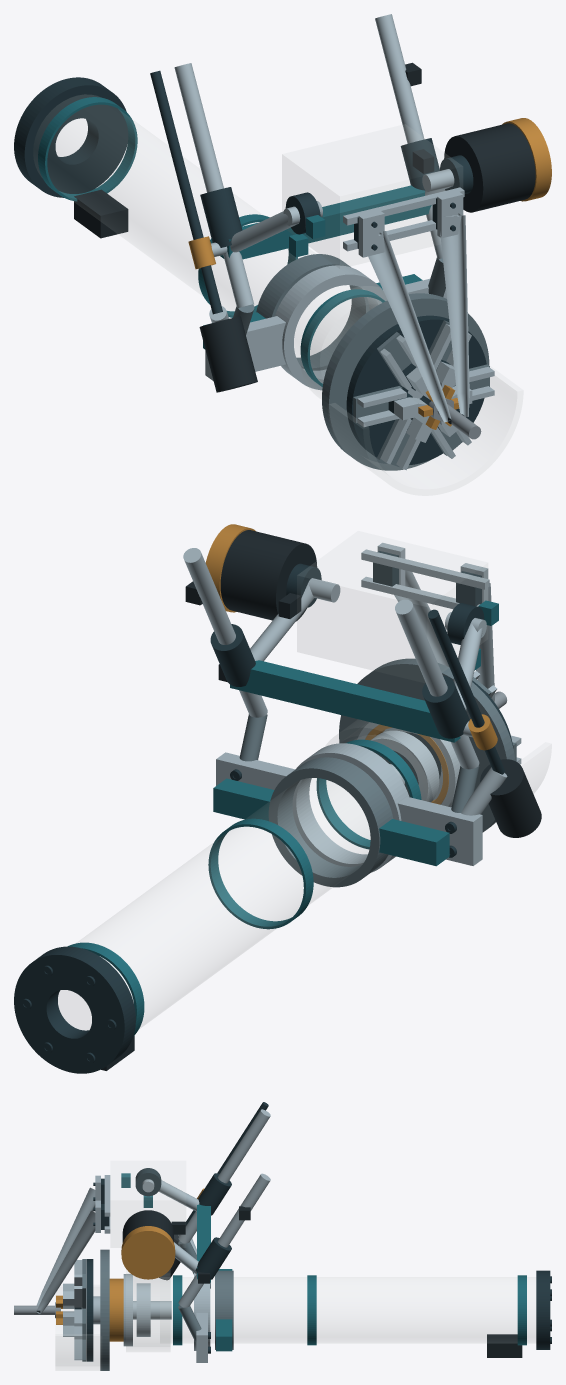
The model's file is b-assembly-review.glb.
The picture shows the model from 3 angles, top to bottom: view 1: azimuth 30°, elevation 25°; view 2: azimuth 150°, elevation 25°; view 3: azimuth 270°, elevation 25°; orthographic projection. The views are drawn at different scales.
Parts seen in each view (by area): view 1: 01-SPINDLE-INSTALLATION-ENVELOPE, 05-GRIPPER-INSTALLATION-ENVELOPE-NOT-SELECTED, robot-adapter-bore, 02-FRONT-HALF-GUARD-REAR-OPEN, 07-10mm-guide-shaft (×2), chuck-rear-mounting-ring, 08B-geared-rotary-actuator-envelope, rotor-back-flange, spindle-clamp-band (×3), slide-support-collar, 09-STATIONARY-CLAMP-ACTUATOR-ENVELOPE, 06-SHARP-TAPERED-FINGER-1 (+17 smaller); view 2: 01-SPINDLE-INSTALLATION-ENVELOPE, 05-GRIPPER-INSTALLATION-ENVELOPE-NOT-SELECTED, robot-adapter-bore, moving-crossmember, reaction-collar, spindle-clamp-band (×3), 08B-geared-rotary-actuator-envelope, 07-10mm-guide-shaft (×2), slide-support-collar, slide-mounting-ear (×2), 10-REACTION-TAB (×2), chuck-rear-mounting-ring (+16 smaller); view 3: 01-SPINDLE-INSTALLATION-ENVELOPE, 05-GRIPPER-INSTALLATION-ENVELOPE-NOT-SELECTED, 09-STATIONARY-CLAMP-ACTUATOR-ENVELOPE, 07-10mm-guide-shaft (×2), 08B-brake-envelope, spindle-clamp-band (×3), 02-FRONT-HALF-GUARD-REAR-OPEN, 07-linear-bushing-carriage (×2), 06-SHARP-TAPERED-FINGER-1, chuck-rear-mounting-ring, robot-adapter-bore, reaction-collar (+17 smaller).
Boxes of the visible parts, x1=… form: 01-SPINDLE-INSTALLATION-ENVELOPE: x1=34, y1=95, x2=355, y2=364; 05-GRIPPER-INSTALLATION-ENVELOPE-NOT-SELECTED: x1=282, y1=125, x2=462, y2=268; robot-adapter-bore: x1=14, y1=77, x2=128, y2=197; 02-FRONT-HALF-GUARD-REAR-OPEN: x1=328, y1=366, x2=522, y2=495; 07-10mm-guide-shaft (×2): x1=174, y1=14, x2=442, y2=307; chuck-rear-mounting-ring: x1=322, y1=293, x2=489, y2=470; 08B-geared-rotary-actuator-envelope: x1=444, y1=123, x2=535, y2=212; rotor-back-flange: x1=346, y1=315, x2=486, y2=464; spindle-clamp-band (×3): x1=38, y1=97, x2=385, y2=386; slide-support-collar: x1=275, y1=265, x2=387, y2=390; 09-STATIONARY-CLAMP-ACTUATOR-ENVELOPE: x1=301, y1=286, x2=386, y2=398; 06-SHARP-TAPERED-FINGER-1: x1=440, y1=215, x2=469, y2=416; 01-SPINDLE-INSTALLATION-ENVELOPE: x1=58, y1=736, x2=425, y2=1029; 05-GRIPPER-INSTALLATION-ENVELOPE-NOT-SELECTED: x1=297, y1=531, x2=487, y2=682; robot-adapter-bore: x1=14, y1=946, x2=135, y2=1073; moving-crossmember: x1=230, y1=660, x2=460, y2=742; reaction-collar: x1=268, y1=757, x2=393, y2=887; spindle-clamp-band (×3): x1=67, y1=739, x2=421, y2=1036; 08B-geared-rotary-actuator-envelope: x1=220, y1=530, x2=317, y2=621; 07-10mm-guide-shaft (×2): x1=183, y1=548, x2=479, y2=769; slide-support-collar: x1=292, y1=743, x2=409, y2=872; slide-mounting-ear (×2): x1=216, y1=752, x2=482, y2=865; 10-REACTION-TAB (×2): x1=213, y1=778, x2=449, y2=866; chuck-rear-mounting-ring: x1=339, y1=658, x2=515, y2=832; 01-SPINDLE-INSTALLATION-ENVELOPE: x1=171, y1=1277, x2=535, y2=1342; 05-GRIPPER-INSTALLATION-ENVELOPE-NOT-SELECTED: x1=111, y1=1161, x2=185, y2=1247; 09-STATIONARY-CLAMP-ACTUATOR-ENVELOPE: x1=126, y1=1270, x2=170, y2=1351; 07-10mm-guide-shaft (×2): x1=178, y1=1109, x2=270, y2=1307; 08B-brake-envelope: x1=121, y1=1226, x2=175, y2=1279; spindle-clamp-band (×3): x1=173, y1=1275, x2=526, y2=1345; 02-FRONT-HALF-GUARD-REAR-OPEN: x1=55, y1=1285, x2=101, y2=1370; 07-linear-bushing-carriage (×2): x1=195, y1=1173, x2=231, y2=1279; 06-SHARP-TAPERED-FINGER-1: x1=36, y1=1211, x2=95, y2=1314; chuck-rear-mounting-ring: x1=100, y1=1249, x2=109, y2=1370; robot-adapter-bore: x1=536, y1=1270, x2=550, y2=1349; reaction-collar: x1=215, y1=1270, x2=233, y2=1349.
Bounding box in the file's own units: 0.198 × 0.2104 × 0.4605.
